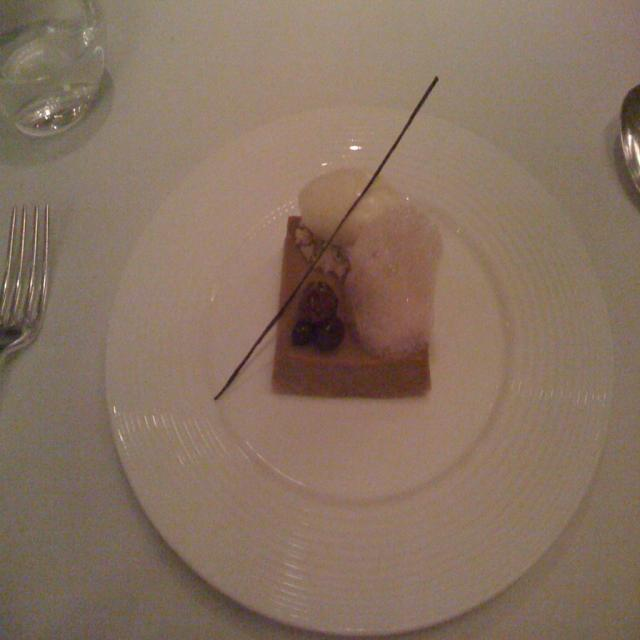non-organic waste: (103, 98, 618, 640)
